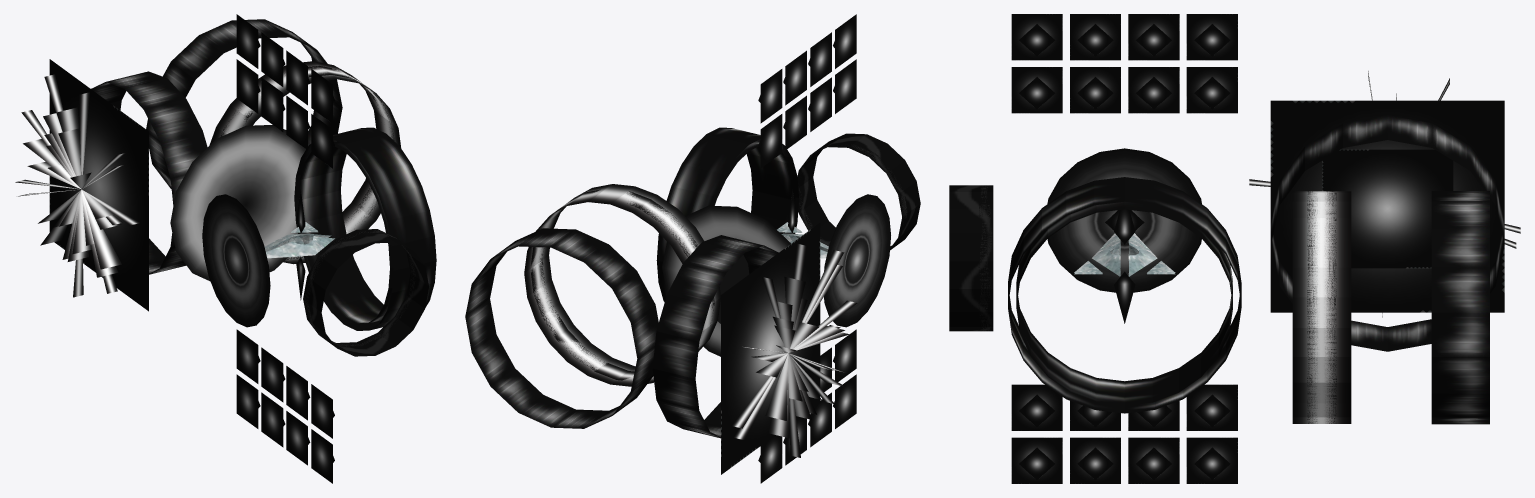
The picture shows the model from 3 angles, left to right: view 1: azimuth 30°, elevation 25°; view 2: azimuth 150°, elevation 25°; view 3: azimuth 270°, elevation 25°; orthographic projection. The views are drawn at different scales.
Visible parts, largest first — view 1: M_1005_0; view 2: M_1005_0, M_1005_1; view 3: M_1005_0.
Part boxes in pixels (x1,y1,x2,y2): M_1005_0: [15, 14, 436, 483]; M_1005_0: [465, 14, 920, 483]; M_1005_1: [718, 231, 828, 323]; M_1005_0: [949, 14, 1520, 483].
Size of the model in its own units: 5.04 by 6.39 by 7.04.
Materials: 2 (2 with a texture image).
